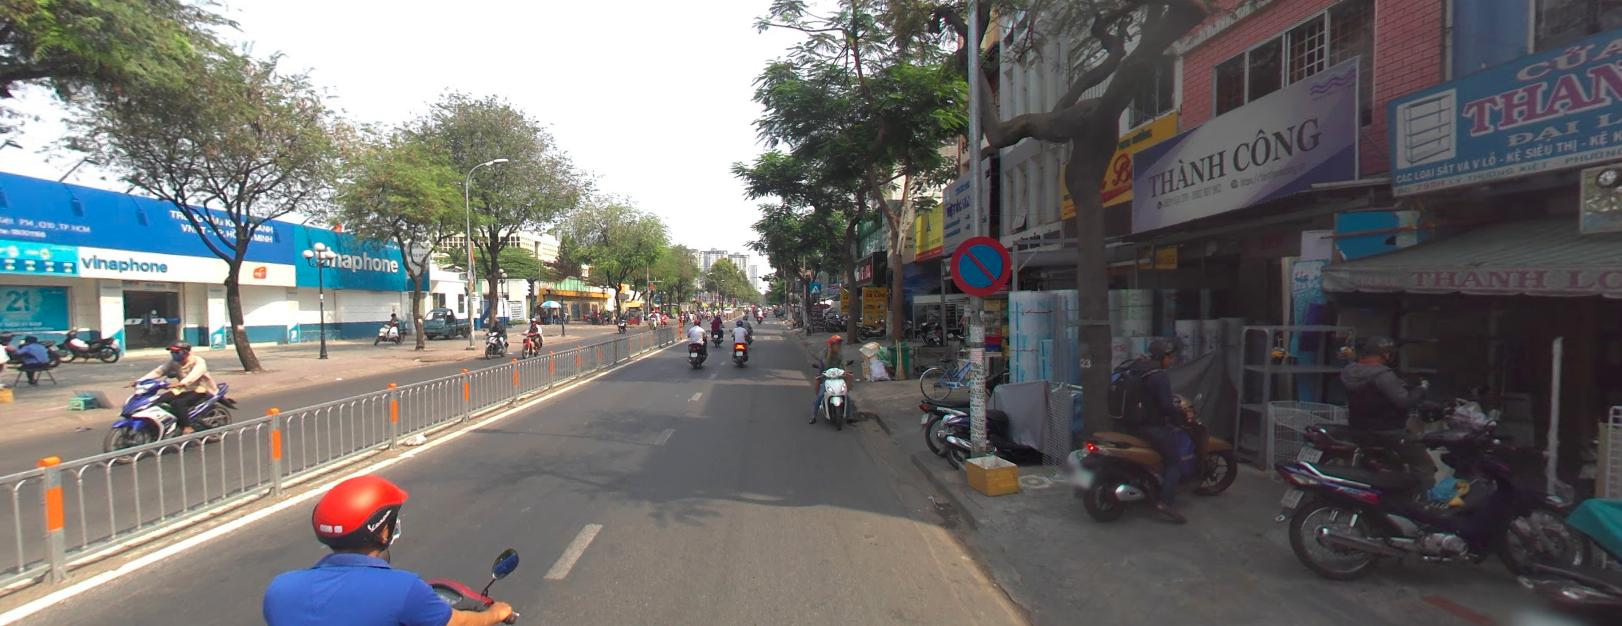Cam dung va do: (947, 232, 1015, 294)
